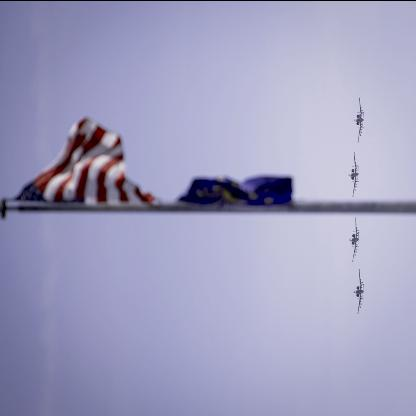A10: (352, 268, 364, 314), (348, 216, 360, 262), (352, 97, 364, 143), (347, 152, 359, 197)
